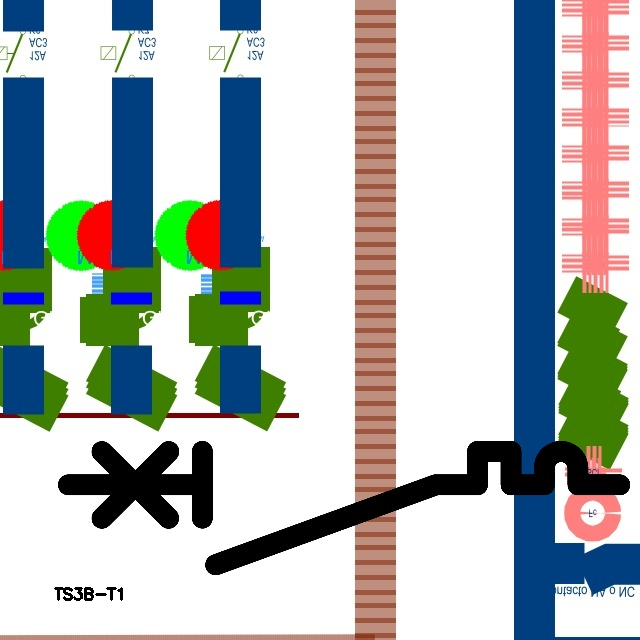interruptor_termomagnetico: (54, 437, 634, 579)
